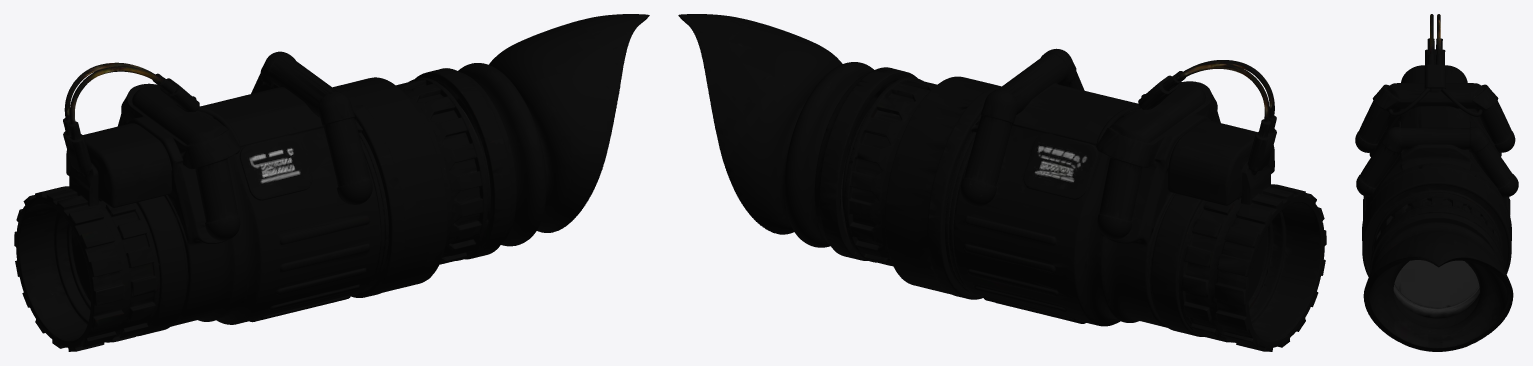
Rendered from monocular.glb.
The picture shows the model from 3 angles, left to right: view 1: azimuth 30°, elevation 25°; view 2: azimuth 150°, elevation 25°; view 3: azimuth 270°, elevation 25°; orthographic projection. The views are drawn at different scales.
Visible parts, largest first — view 1: texture_pbr_v128_Material.002_0; view 2: texture_pbr_v128_Material.002_0; view 3: texture_pbr_v128_Material.002_0.
Part boxes in pixels (left/top/right/bottom): texture_pbr_v128_Material.002_0: left=14, top=14, right=649, bottom=351; texture_pbr_v128_Material.002_0: left=678, top=14, right=1326, bottom=351; texture_pbr_v128_Material.002_0: left=1355, top=14, right=1518, bottom=351.
Bounding box in the file's own units: 1.11 × 0.5032 × 0.3724.
1 material, 1 textured.
